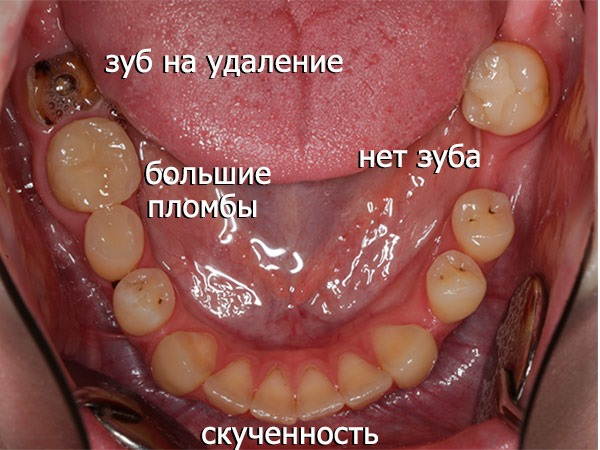LL1BC_decay: (428, 253, 486, 321)
LL1M_decay: (482, 133, 536, 191)
LL2BC_decay: (454, 190, 514, 256)
LL2M_healthy: (467, 45, 548, 131)
LLCI_healthy: (299, 370, 342, 418)
LLC_healthy: (375, 326, 436, 385)
LLLI_healthy: (341, 356, 391, 408)
LR1BC_decay: (113, 270, 174, 333)
LR1M_healthy: (48, 119, 139, 206)
LR2BC_healthy: (85, 209, 142, 272)
LR2M_decay: (25, 46, 103, 121)
LRCI_healthy: (253, 376, 297, 422)
LRC_healthy: (154, 332, 212, 390)
LRLI_healthy: (208, 362, 251, 413)
